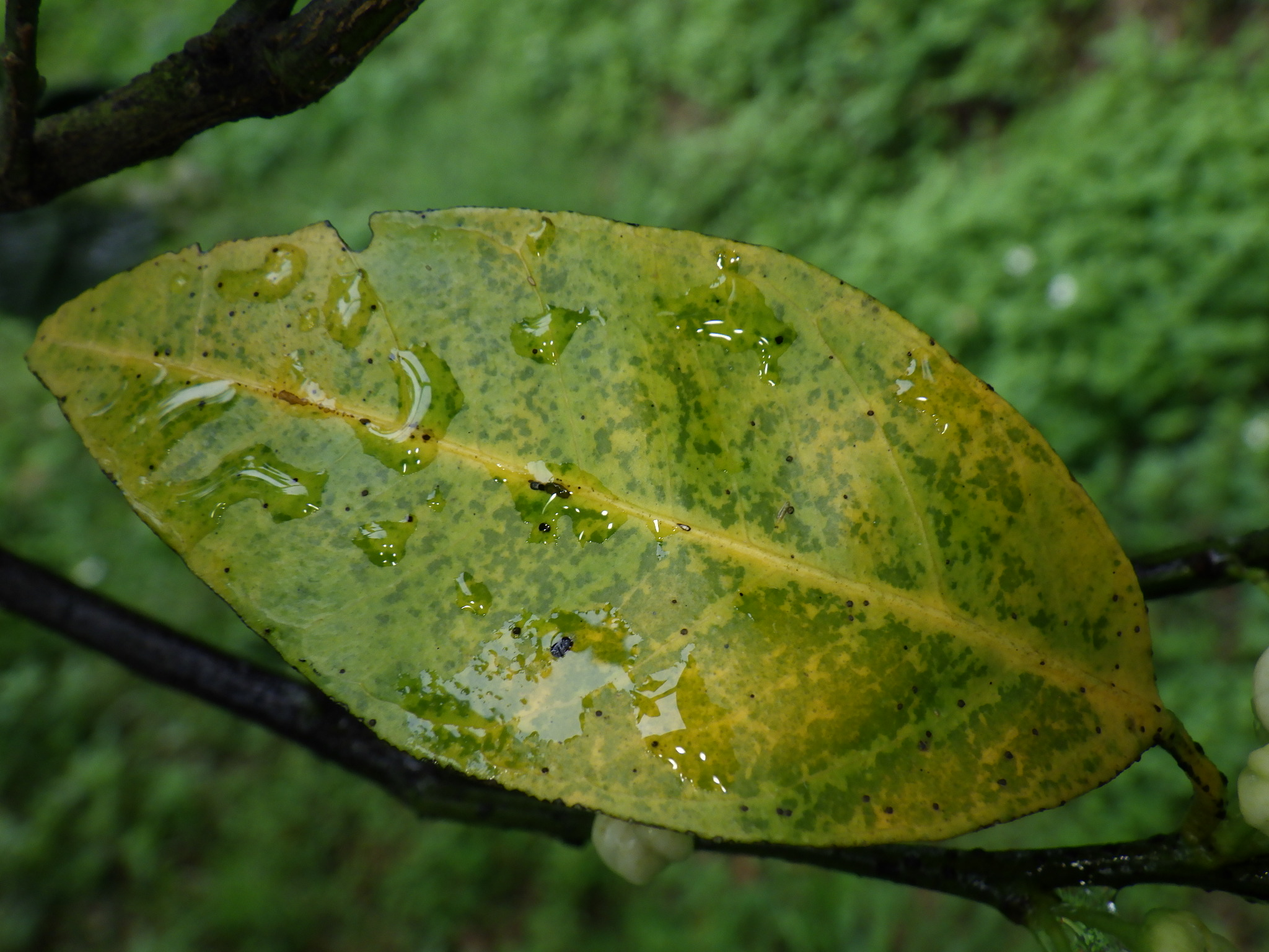Oily_Spot: (28, 208, 1169, 846)
